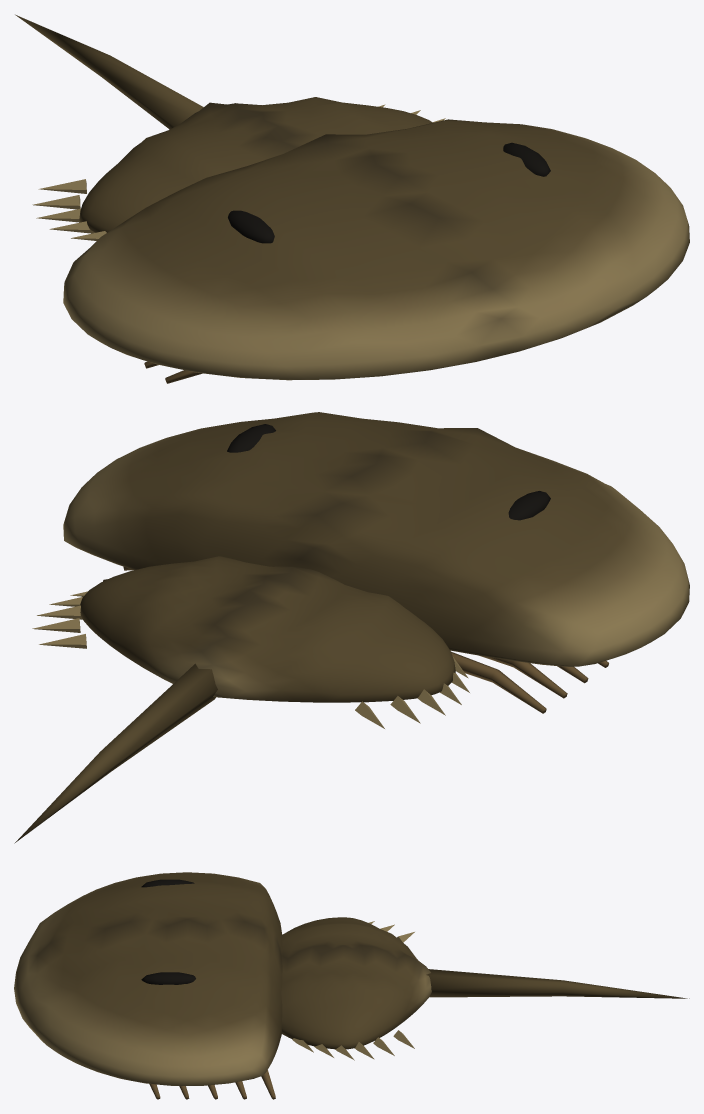
Rendered from Mesolimulus.fbx.
The picture shows the model from 3 angles, top to bottom: view 1: azimuth 30°, elevation 25°; view 2: azimuth 150°, elevation 25°; view 3: azimuth 270°, elevation 25°; orthographic projection. The views are drawn at different scales.
Visible parts, largest first — view 1: Mesolimulus; view 2: Mesolimulus; view 3: Mesolimulus.
Boxes of the visible parts, x1,y1,x2,y2 form: Mesolimulus: [15, 14, 689, 383]; Mesolimulus: [14, 412, 689, 843]; Mesolimulus: [14, 872, 689, 1099].
Bounding box in the file's own units: 0.8 × 0.1958 × 1.17.
